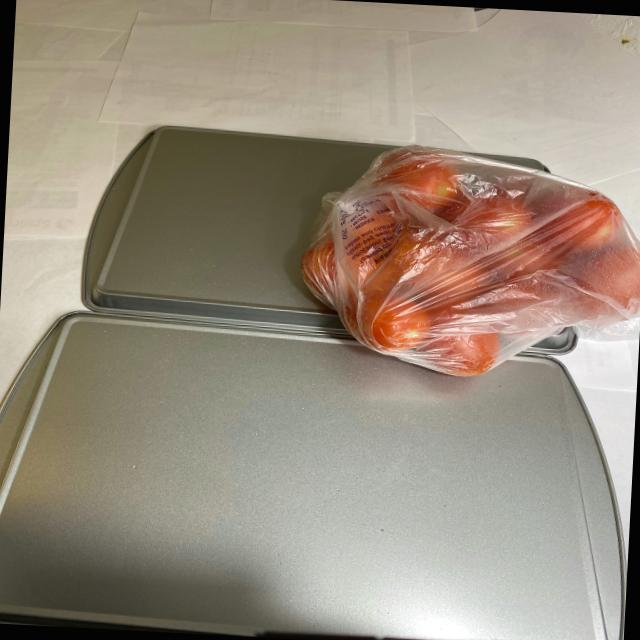tomato: (296, 142, 640, 380)
